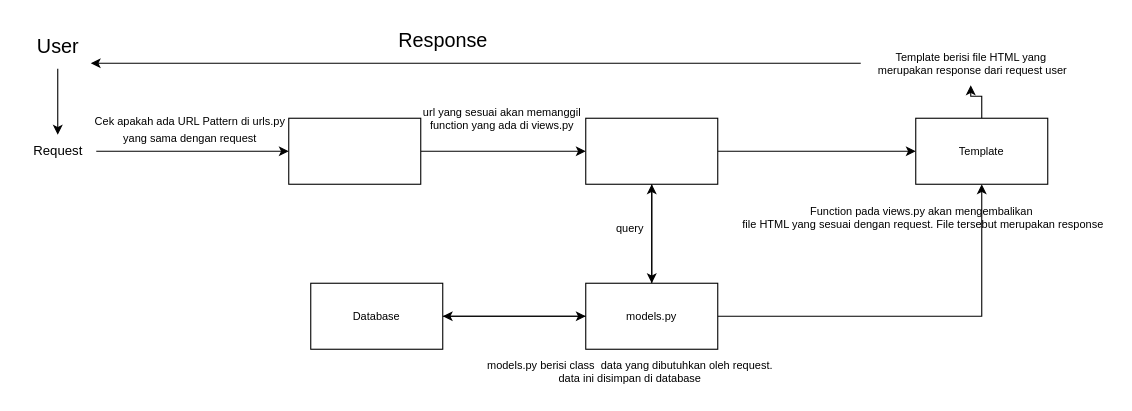
Image size: 1132x411. Some labels were removed from this diagram. The shapes that lost their labels are listed below. From the top down, each one's centre as x and y in pixels, then its label:
(x=354, y=150): urls.py
(x=651, y=150): views.py
